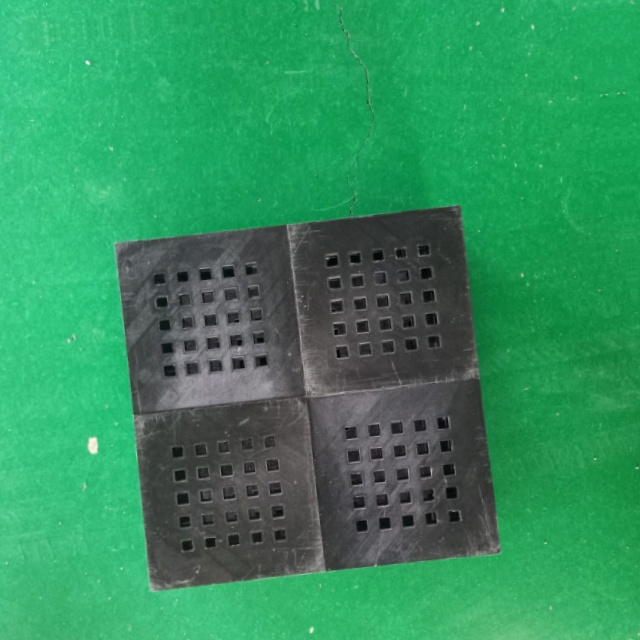pallet: (104, 198, 497, 598)
